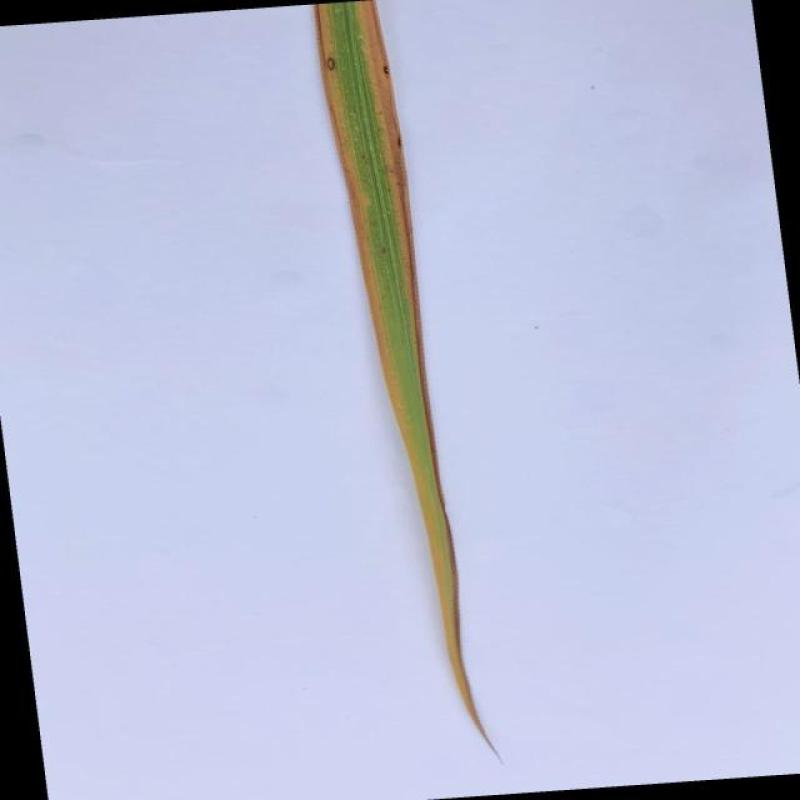Rice Tungro: (314, 0, 504, 762)
